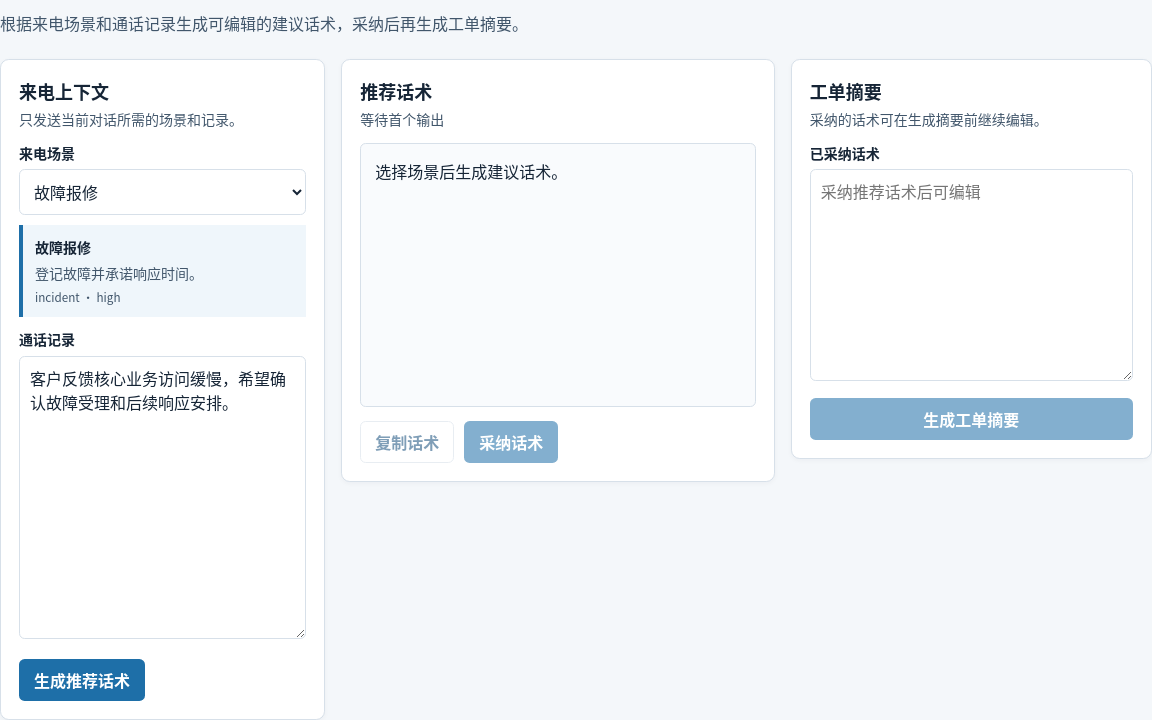
shows an SSE error event as a generation failure
(page scrolled)
Click the button "生成推荐话术".
click(82, 680)  # box [19, 659, 145, 701]
(page scrolled)
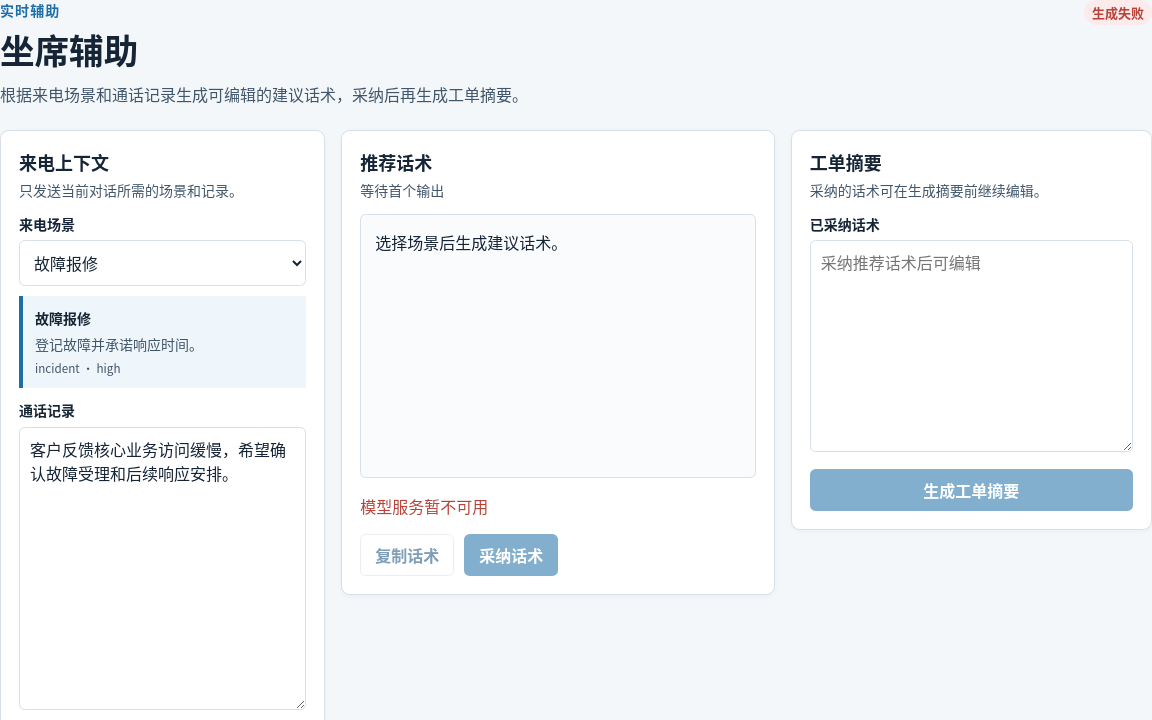
Now the message reads "模型服务暂不可用", box [360, 494, 488, 518]
Now the text "生成失败" is shown, box [1084, 0, 1151, 25]
